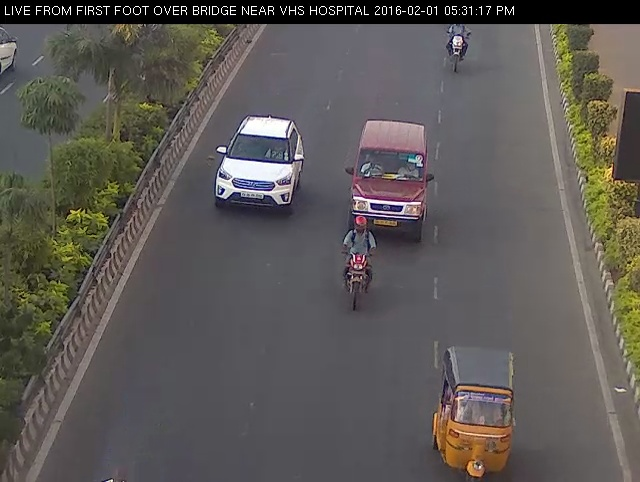Car: (423, 327, 526, 482), (338, 114, 444, 250), (202, 95, 308, 227)
Person: (329, 208, 385, 321), (432, 12, 476, 79)
